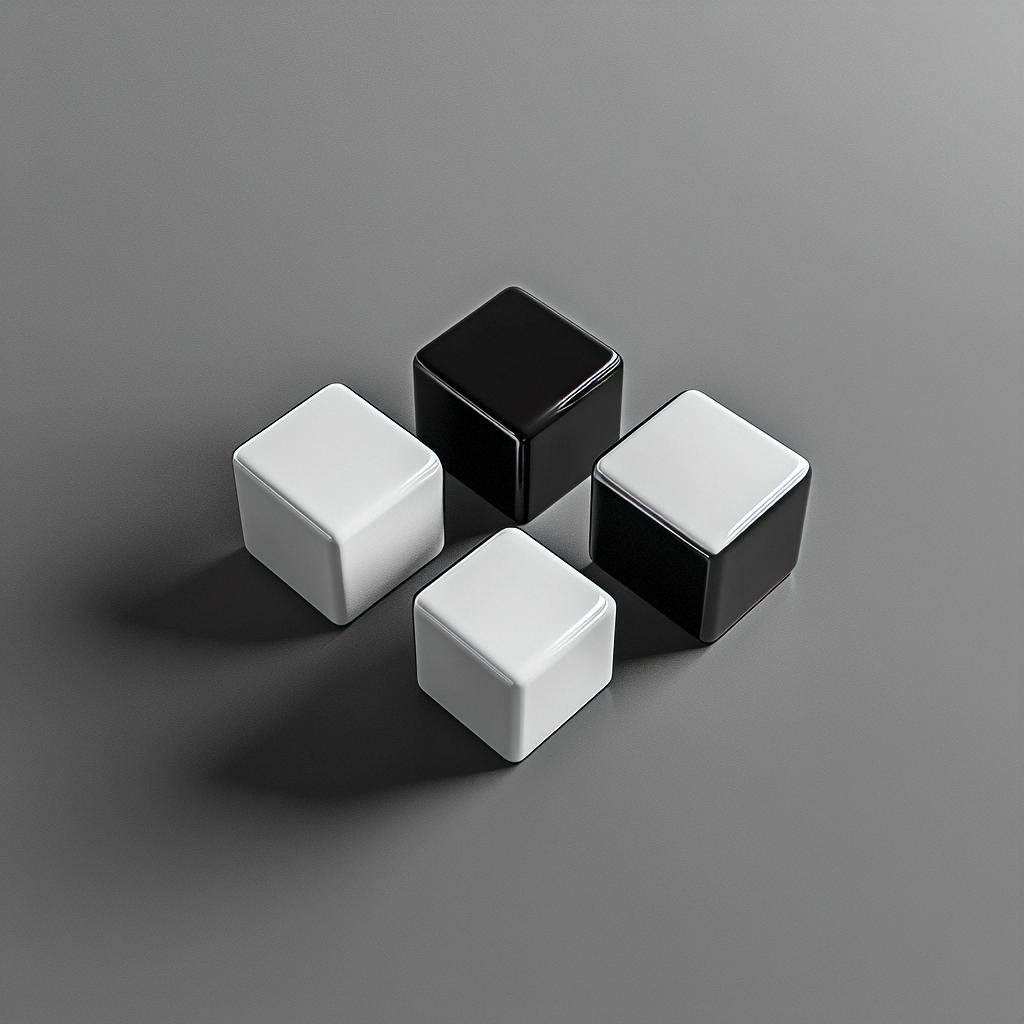cube: (588, 386, 811, 644), (231, 380, 445, 626), (411, 282, 624, 524), (411, 525, 616, 763)
